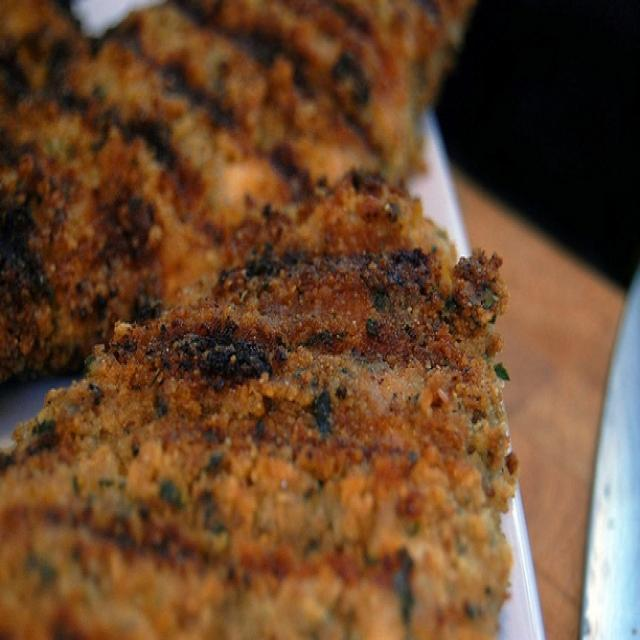鸡肉料理 含炸鸡: (22, 8, 570, 634)
